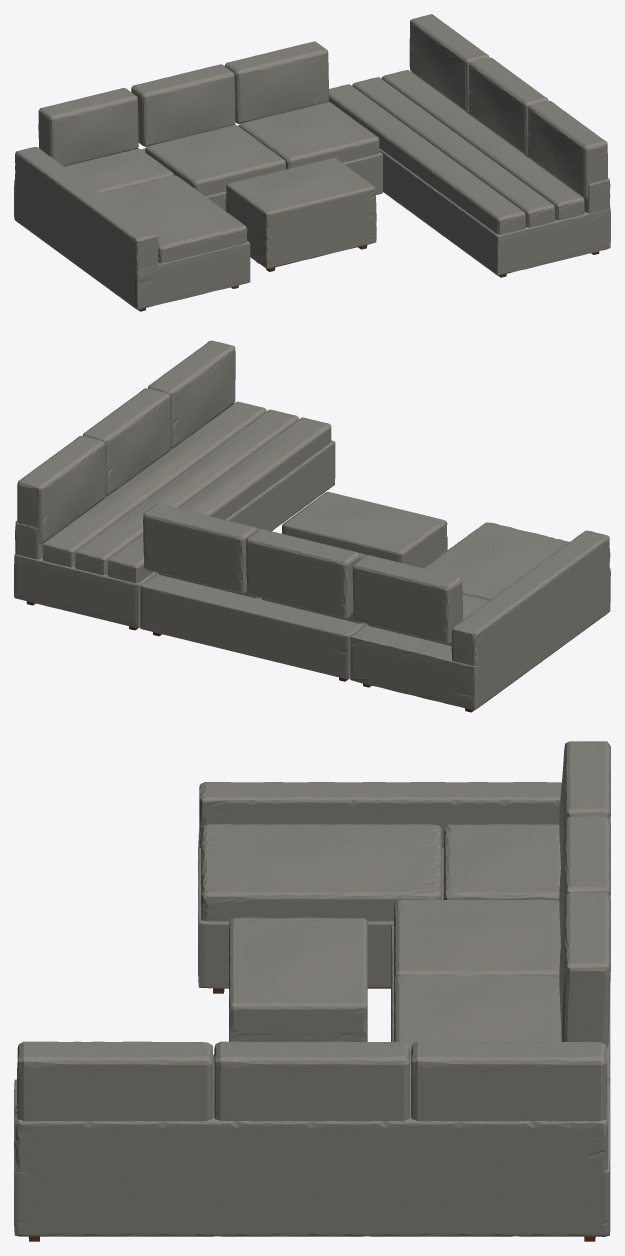
Rendered from langdon.glb.
3 renders of one model, top to bottom at view 1: azimuth 30°, elevation 25°; view 2: azimuth 150°, elevation 25°; view 3: azimuth 270°, elevation 25°, orthographic. The views are drawn at different scales.
Visible parts, largest first — view 1: upholstery; view 2: upholstery; view 3: upholstery.
Boxes of the visible parts, left/top/right/bottom form: upholstery: left=14, top=14, right=610, bottom=309; upholstery: left=14, top=340, right=610, bottom=710; upholstery: left=14, top=741, right=610, bottom=1236.
Bounding box in the file's own units: 3.5 × 0.9018 × 2.59.
2 materials, 2 textured.
